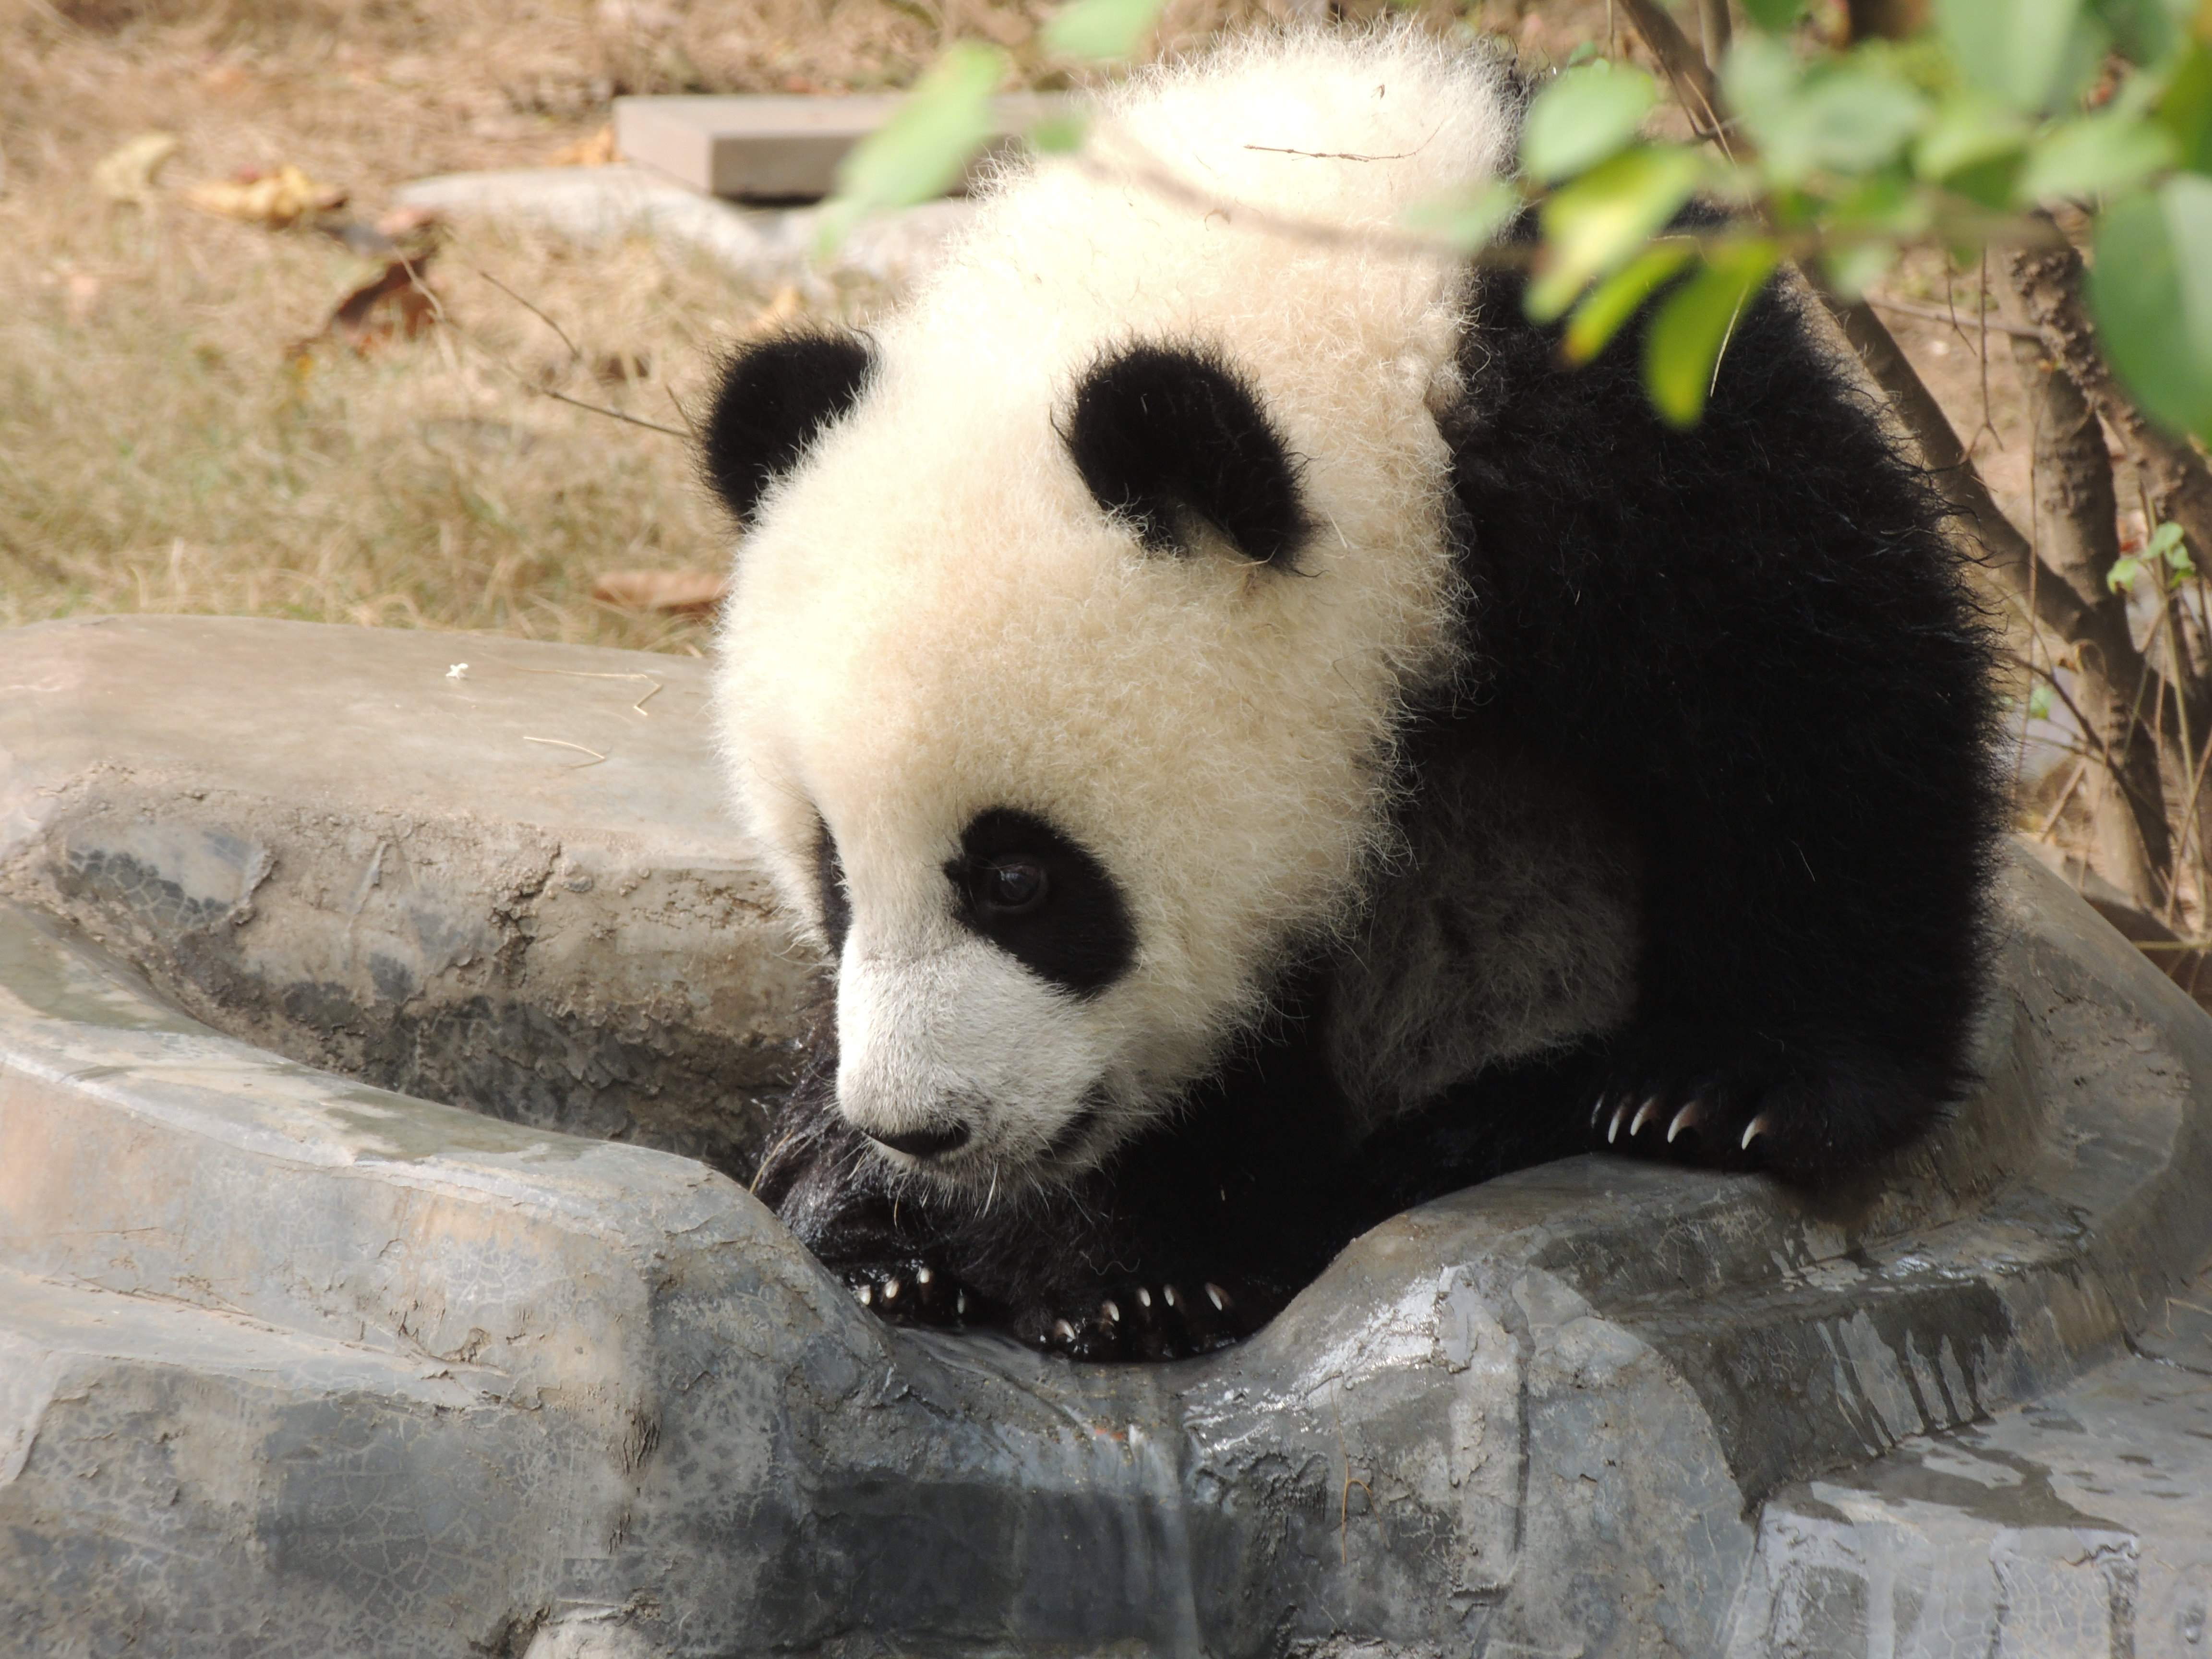panda: (557, 44, 2102, 1330)
